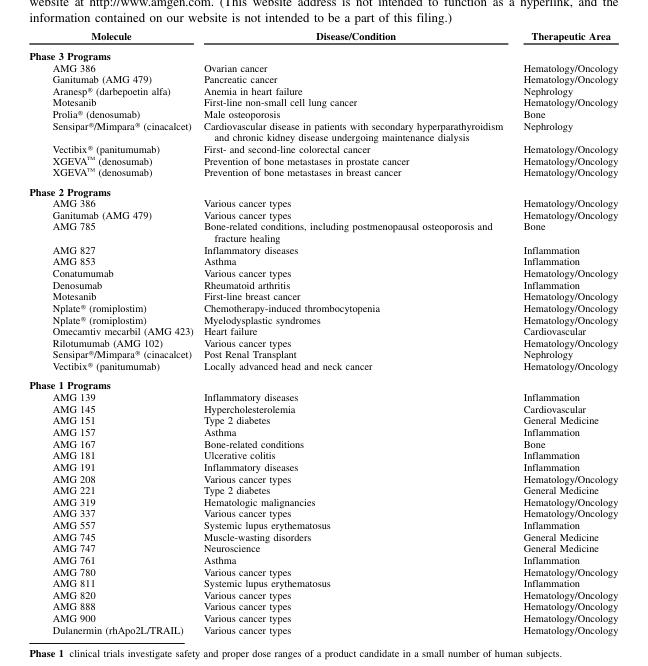table: (28, 29, 617, 634)
table column: (197, 29, 512, 634), (28, 29, 197, 634), (512, 29, 617, 634)
table column header: (28, 29, 617, 45)
table projected row header: (28, 45, 617, 61), (28, 181, 617, 196), (28, 375, 617, 390)
table row: (28, 119, 617, 142), (28, 220, 617, 243), (28, 29, 617, 45), (28, 45, 617, 61), (28, 165, 617, 181), (28, 359, 617, 375), (28, 181, 617, 196), (28, 375, 617, 390), (28, 72, 617, 84), (28, 84, 617, 96), (28, 107, 617, 119), (28, 142, 617, 154), (28, 196, 617, 208), (28, 208, 617, 220), (28, 243, 617, 255), (28, 266, 617, 278), (28, 289, 617, 301), (28, 301, 617, 313), (28, 324, 617, 336), (28, 336, 617, 348), (28, 390, 617, 402), (28, 402, 617, 414), (28, 425, 617, 437), (28, 448, 617, 460), (28, 460, 617, 472), (28, 483, 617, 495), (28, 495, 617, 507), (28, 518, 617, 530), (28, 530, 617, 542), (28, 553, 617, 565), (28, 576, 617, 588), (28, 588, 617, 600), (28, 611, 617, 623), (28, 61, 617, 72), (28, 96, 617, 107), (28, 154, 617, 165), (28, 255, 617, 266), (28, 278, 617, 289), (28, 313, 617, 324), (28, 348, 617, 359), (28, 414, 617, 425), (28, 437, 617, 448), (28, 472, 617, 483), (28, 507, 617, 518), (28, 542, 617, 553), (28, 565, 617, 576), (28, 600, 617, 611), (28, 623, 617, 634)
